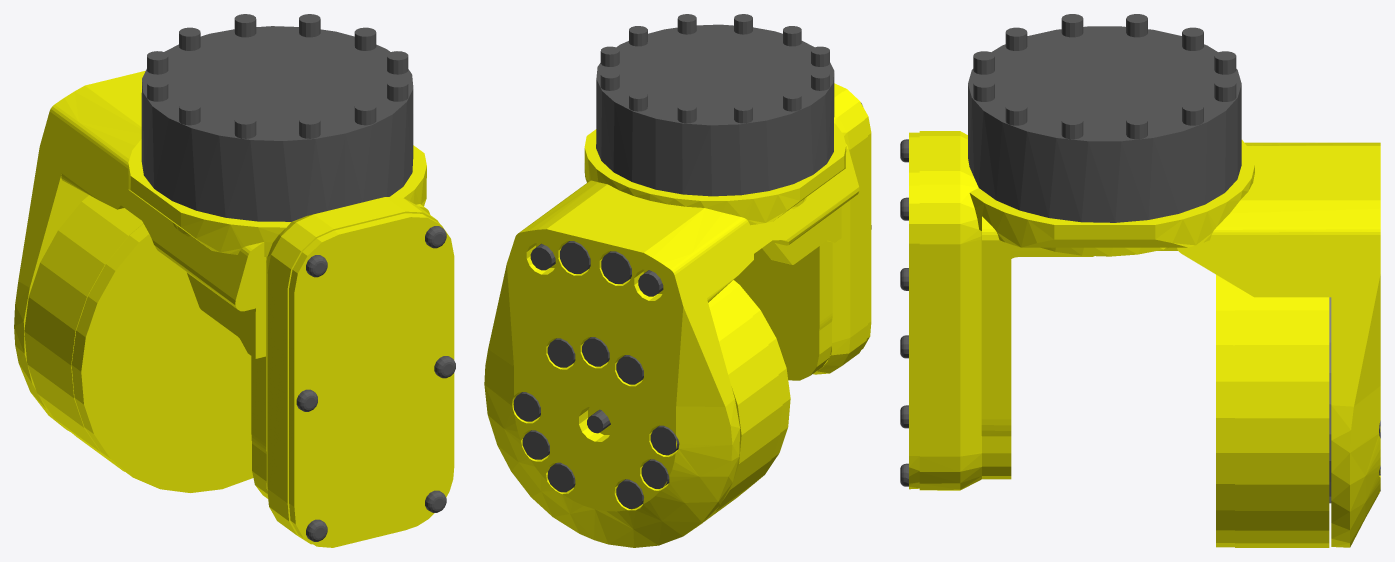
The picture shows the model from 3 angles, left to right: view 1: azimuth 30°, elevation 25°; view 2: azimuth 150°, elevation 25°; view 3: azimuth 270°, elevation 25°; orthographic projection. The views are drawn at different scales.
Visible parts, largest first — view 1: node; view 2: node; view 3: node.
Boxes of the visible parts, left/top/right/bottom form: node: left=14, top=14, right=455, bottom=547; node: left=484, top=14, right=871, bottom=547; node: left=900, top=14, right=1380, bottom=547.
Bounding box in the file's own units: 150 × 233 × 219.
